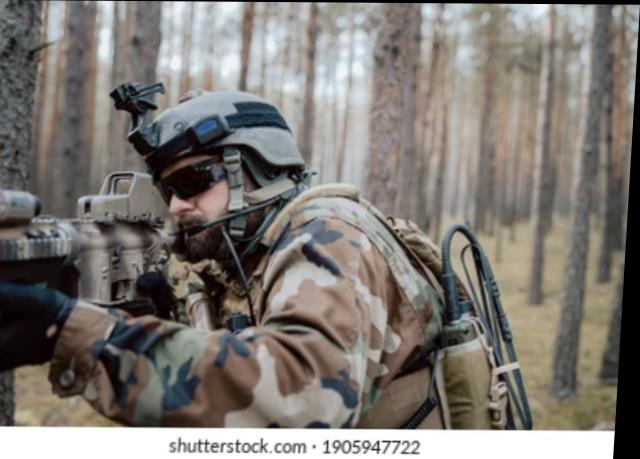other: (57, 99, 451, 421)
